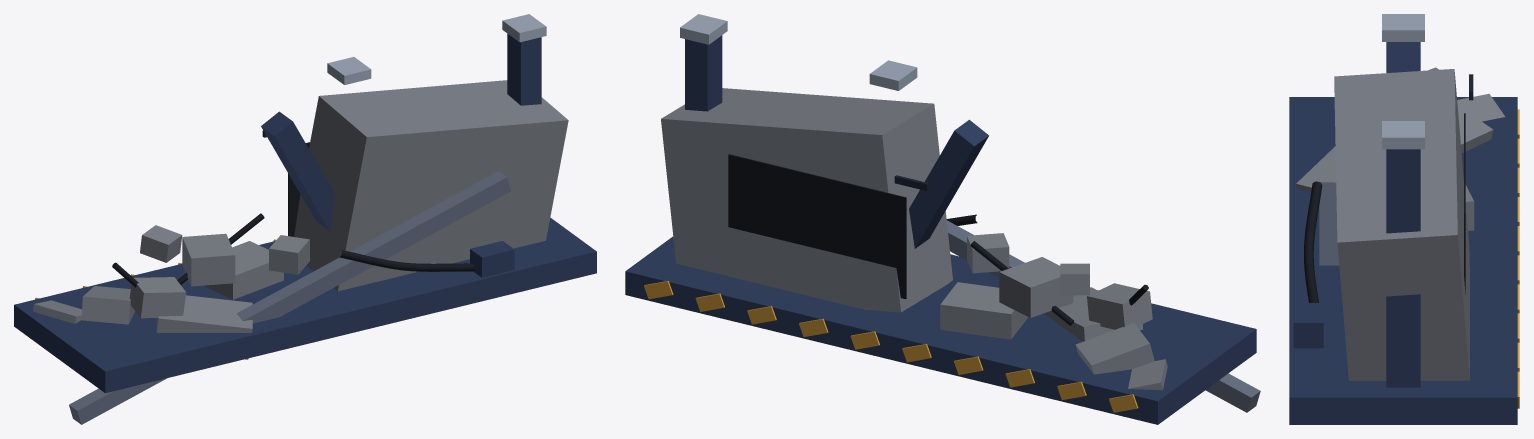
File: tower_barricade_broken.glb
3 renders of one model, left to right at view 1: azimuth 30°, elevation 25°; view 2: azimuth 150°, elevation 25°; view 3: azimuth 270°, elevation 25°, orthographic. The views are drawn at different scales.
Visible parts, largest first — view 1: barricade_block_l, barricade_footing, barricade_beam_rear, barricade_post-0.3, barricade_rubble1, barricade_rubble3, barricade_post-1.5, barricade_rubble0, barricade_rubble4, barricade_rubble2, barricade_rubble6, barricade_junction (+6 smaller); view 2: barricade_block_l, barricade_footing, barricade_scorch, barricade_footing_hazard, barricade_post-0.3, barricade_rubble0, barricade_rubble3, barricade_rubble2, barricade_post-1.5, barricade_rubble4, barricade_beam_rear, barricade_rubble1 (+5 smaller); view 3: barricade_footing, barricade_block_l, barricade_post-1.5, barricade_beam_rear, barricade_junction, barricade_loom, barricade_post_cap-1.5, barricade_post_cap-0.3, barricade_post-0.3, barricade_rubble2, barricade_footing_hazard, barricade_rubble1 (+3 smaller).
Part boxes in pixels (x1,y1,x2,y2): barricade_block_l: (294,80,568,291); barricade_footing: (14,217,596,393); barricade_beam_rear: (69,171,510,424); barricade_post-0.3: (261,111,335,230); barricade_rubble1: (156,295,252,359); barricade_rubble3: (182,233,235,286); barricade_post-1.5: (507,33,541,105); barricade_rubble0: (203,241,283,299); barricade_rubble4: (129,277,186,318); barricade_rubble2: (81,286,135,324); barricade_rubble6: (269,235,309,274); barricade_junction: (470,241,514,277); barricade_block_l: (661,88,952,312); barricade_footing: (625,236,1256,424); barricade_scorch: (728,154,906,299); barricade_footing_hazard: (644,281,1138,412); barricade_post-0.3: (909,119,988,248); barricade_rubble0: (940,282,1028,339); barricade_rubble3: (999,257,1073,317); barricade_rubble2: (1075,323,1154,374); barricade_post-1.5: (685,35,722,111); barricade_rubble4: (1087,283,1152,329); barricade_beam_rear: (946,220,1260,412); barricade_rubble1: (1044,287,1143,341); barricade_footing: (1289,97,1517,424); barricade_block_l: (1334,69,1469,380); barricade_post-1.5: (1386,149,1420,387); barricade_beam_rear: (1319,182,1339,265); barricade_junction: (1293,303,1323,348); barricade_loom: (1304,181,1322,302); barricade_post_cap-1.5: (1382,121,1424,149); barricade_post_cap-0.3: (1382,14,1424,41); barricade_post-0.3: (1386,42,1420,72); barricade_rubble2: (1457,105,1493,152); barricade_footing_hazard: (1517,109,1519,408); barricade_rubble1: (1296,146,1336,191).
Bounding box in the file's own units: 5.11 × 2.51 × 1.6.
